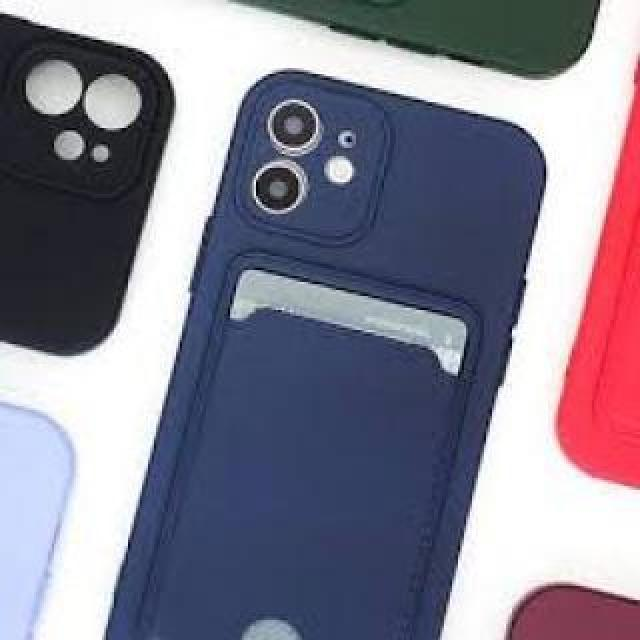smart phone: (122, 90, 554, 640)
